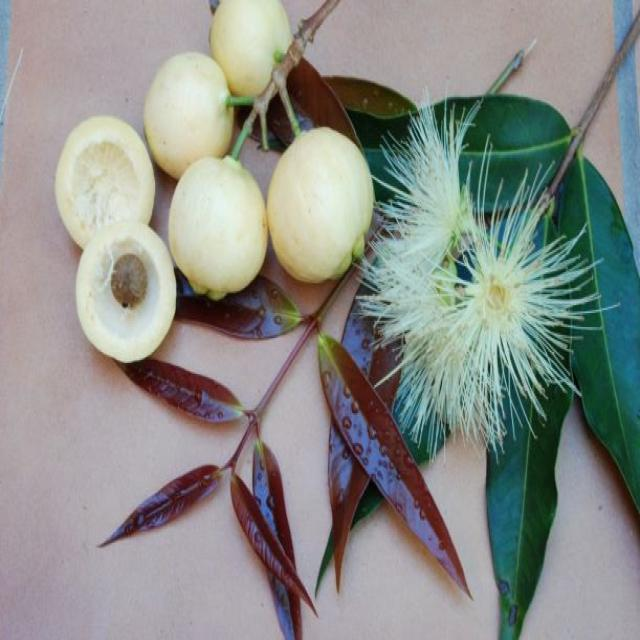Medicinal-Rose Apple: (57, 0, 640, 640)
